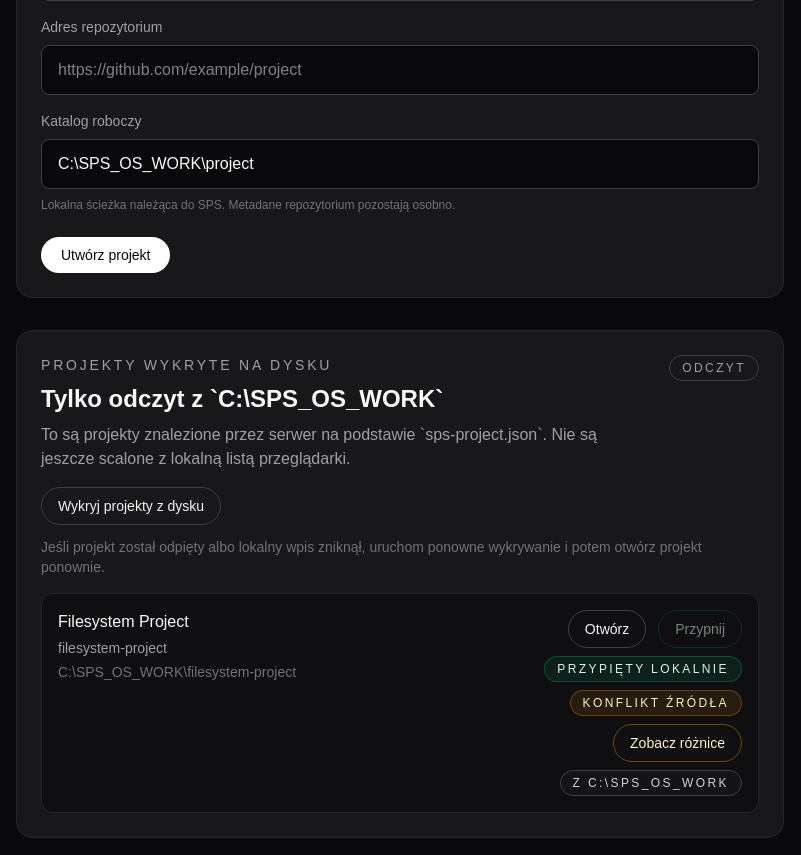
Scenario: ProjectsPage › shows a source conflict warning when the attached local project differs from discovery
(page scrolled)
Expected: the text "Filesystem Project" is shown, left=58, top=613, right=189, bottom=630
Expected: the text "Konflikt źródła" is shown, left=570, top=690, right=742, bottom=716
Click the 5th button. click: (678, 743)
box: left=613, top=724, right=742, bottom=762
(page scrolled)
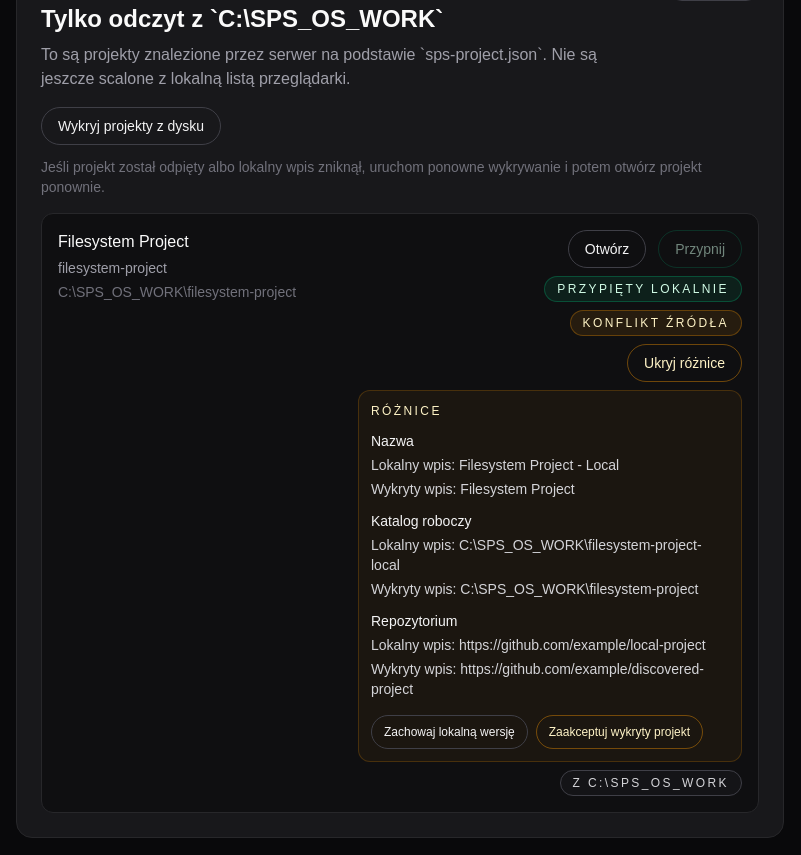
Result: the text "Nazwa" is shown at left=371, top=433, right=414, bottom=449
Result: the text "Lokalny wpis: Filesystem Project - Local" is shown at left=371, top=457, right=619, bottom=473
Result: the text "Wykryty wpis: Filesystem Project" is shown at left=371, top=481, right=575, bottom=497
